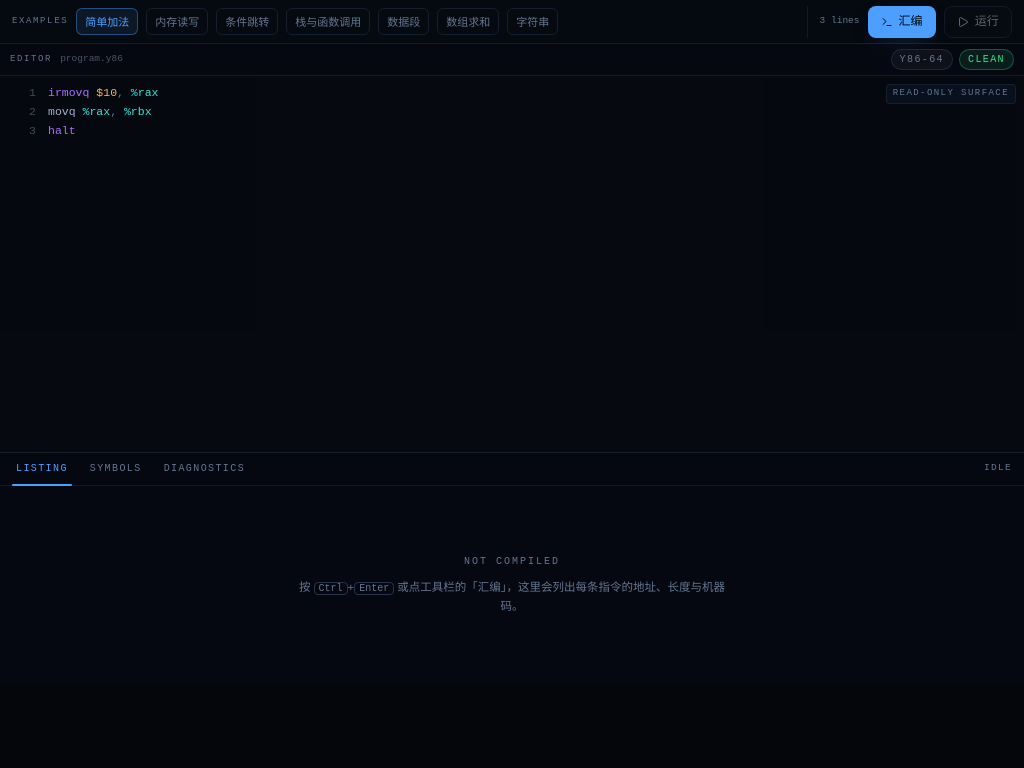
Instruction Editor：汇编闭环 › 汇编失败自动切到诊断页并报出行号
Click the button "汇编". click: click(902, 22)
box: [868,6,936,38]
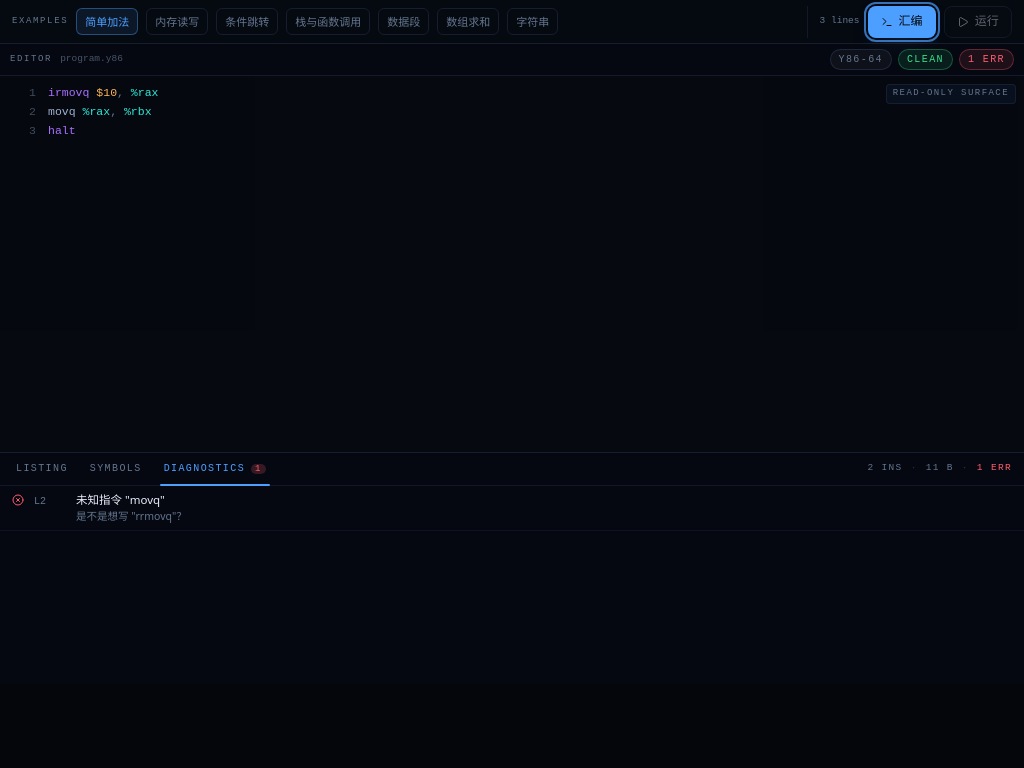
Expected: the text "未知指令 \"movq\"" is shown, [76,492,165,506]
Expected: the text "L2" is shown, [34,496,46,506]
Expected: the text "是不是想写 \"rrmovq\"？" is shown, [76,509,187,524]
